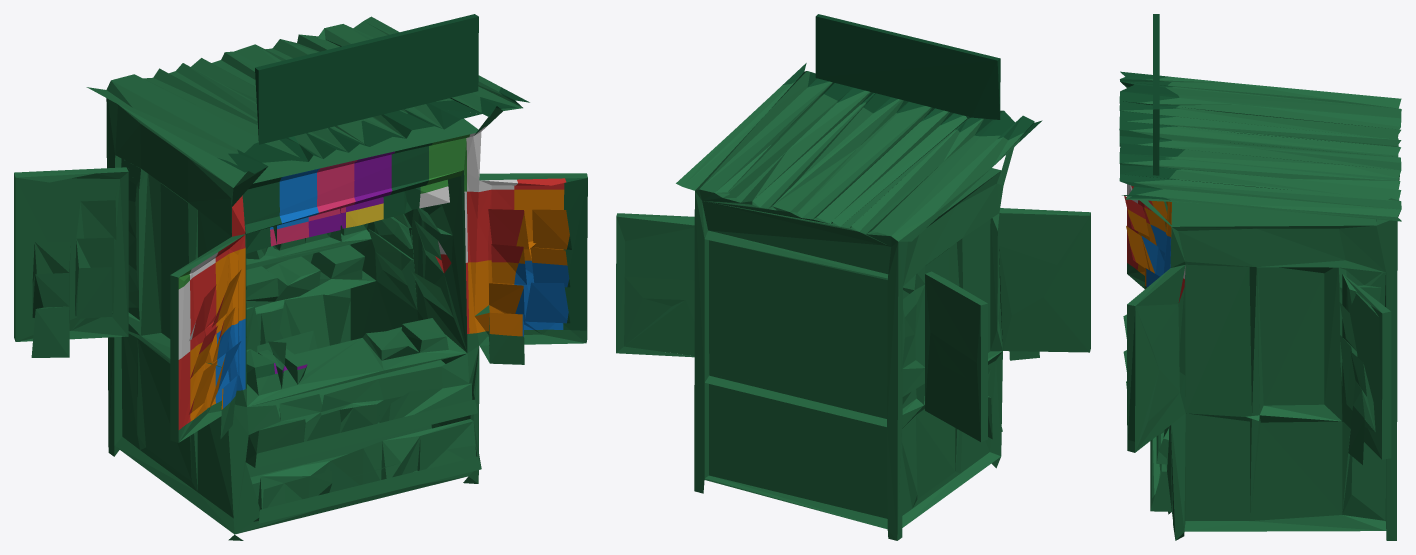
Rendered from banca.glb.
3 renders of one model, left to right at view 1: azimuth 30°, elevation 25°; view 2: azimuth 150°, elevation 25°; view 3: azimuth 270°, elevation 25°, orthographic. The views are drawn at different scales.
Visible parts, largest first — view 1: detail; view 2: detail; view 3: detail.
Boxes of the visible parts, bbox=[...] form: detail: bbox=[14, 14, 587, 540]; detail: bbox=[616, 14, 1090, 540]; detail: bbox=[1119, 14, 1401, 540].
Size of the model in its own units: 1.95 by 2 by 1.2.
